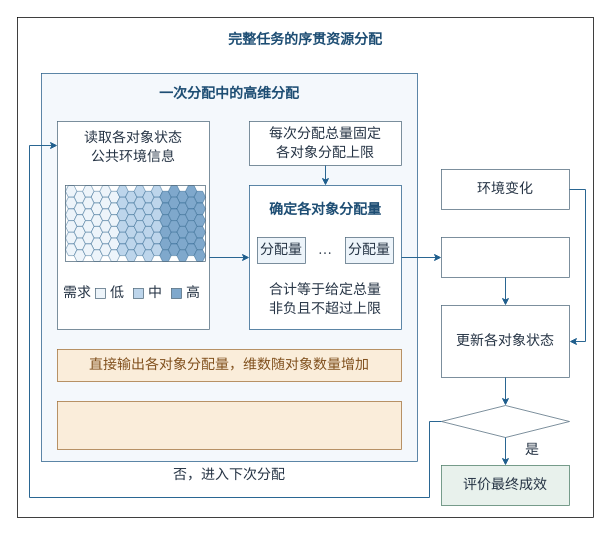
Image size: 611x535. Some labels were removed from this diagram. The shapes that lost their labels are listed below. From the top down, each one's centre as x and y in pixels, then its label:
[505,257]: 执行本次分配
[229,425]: 如何用策略输出的少量数值 确定满足约束的全部资源分配量？
[505,421]: 任务结束？
